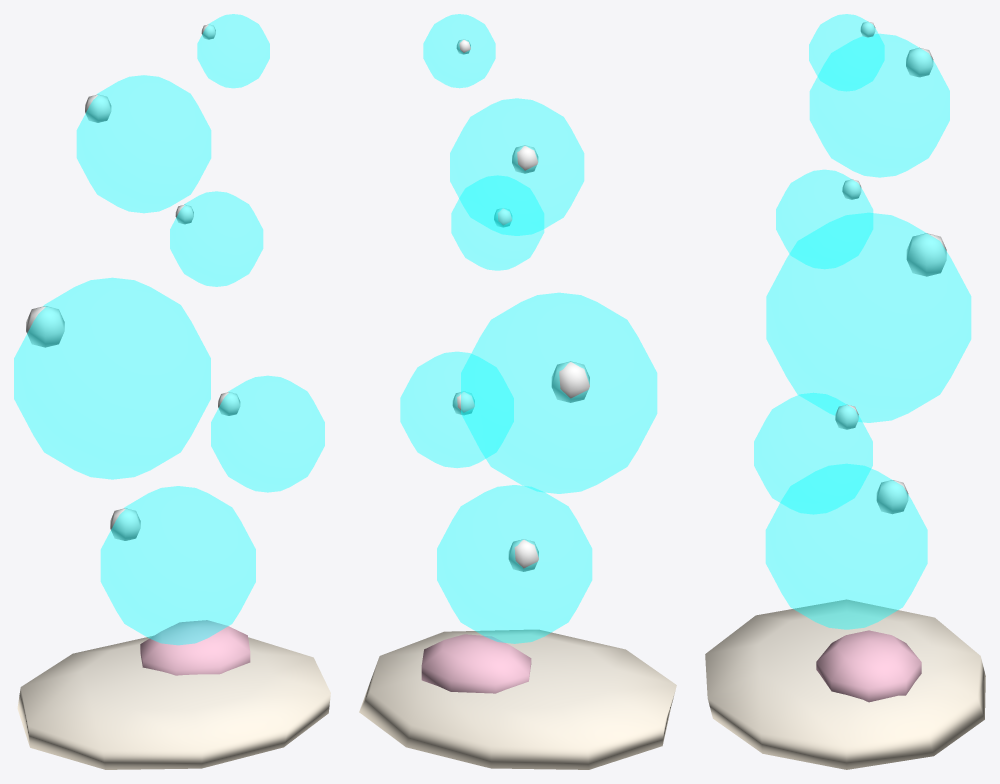
File: s6Bubbles.glb
The picture shows the model from 3 angles, left to right: view 1: azimuth 30°, elevation 25°; view 2: azimuth 150°, elevation 25°; view 3: azimuth 270°, elevation 25°; orthographic projection. The views are drawn at different scales.
Parts seen in each view (by area): view 1: Glow_00E5FF_T60, Body; view 2: Glow_00E5FF_T60, Body; view 3: Glow_00E5FF_T60, Body.
Boxes of the visible parts, x1,y1,x2,y2 form: Glow_00E5FF_T60: (14, 14, 324, 644); Body: (17, 24, 330, 769); Glow_00E5FF_T60: (400, 14, 656, 643); Body: (359, 39, 676, 769); Glow_00E5FF_T60: (754, 14, 970, 629); Body: (705, 21, 985, 769).
Size of the model in its own units: 3.16 by 7.29 by 2.53.
